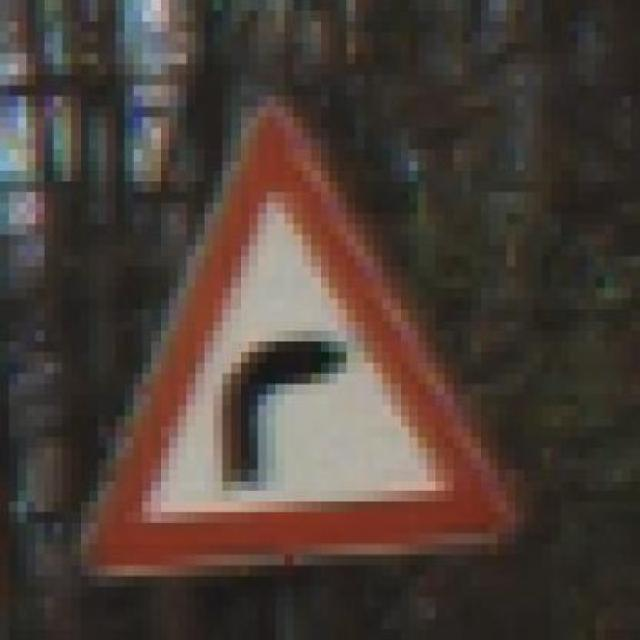Dangerous Rright Curve Ahead: (71, 97, 515, 566)
